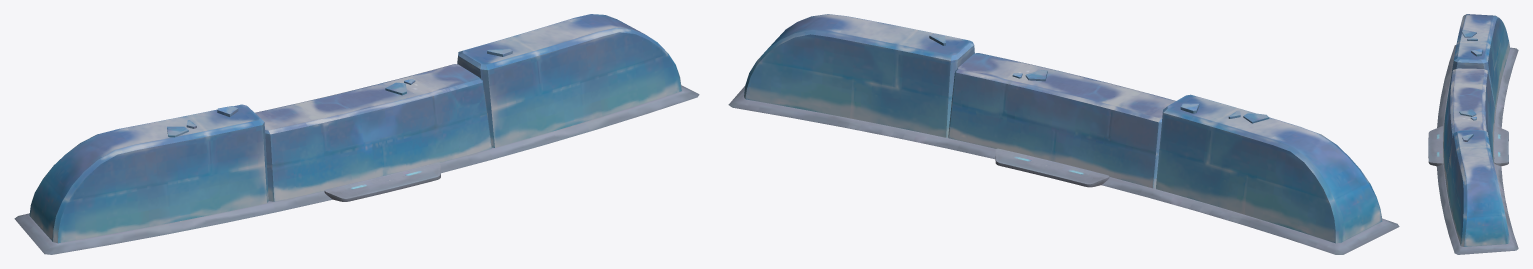
File: pref_sm_beach_winter_icewall05_lv3.fbx
The picture shows the model from 3 angles, left to right: view 1: azimuth 30°, elevation 25°; view 2: azimuth 150°, elevation 25°; view 3: azimuth 270°, elevation 25°; orthographic projection. The views are drawn at different scales.
Visible parts, largest first — view 1: pref_sm_beach_winter_icewall05_lv3; view 2: pref_sm_beach_winter_icewall05_lv3; view 3: pref_sm_beach_winter_icewall05_lv3.
Part boxes in pixels (left/top/right/bottom): pref_sm_beach_winter_icewall05_lv3: left=14, top=14, right=699, bottom=254; pref_sm_beach_winter_icewall05_lv3: left=728, top=14, right=1399, bottom=254; pref_sm_beach_winter_icewall05_lv3: left=1428, top=14, right=1518, bottom=254.
Size of the model in its own units: 14.51 by 1.8 by 2.63.
